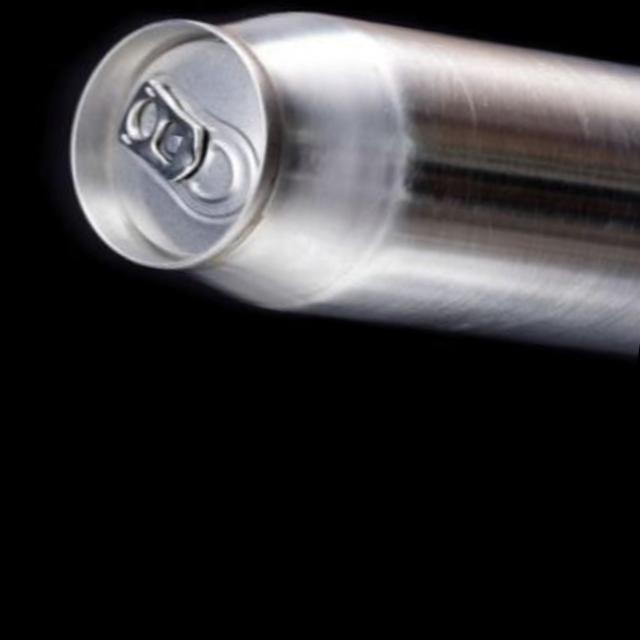metal: (68, 16, 640, 357)
